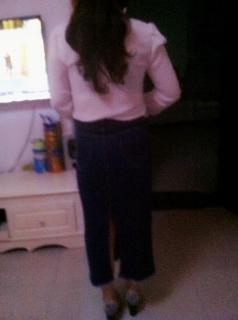long sleeve top: (47, 15, 181, 123)
skirt: (74, 111, 156, 286)
